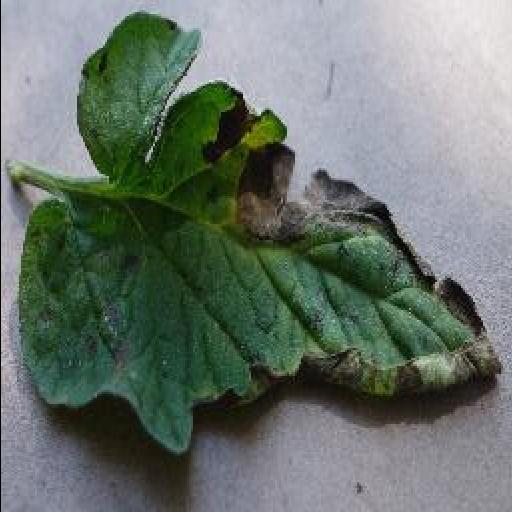disease_tomato: (16, 12, 506, 454)
